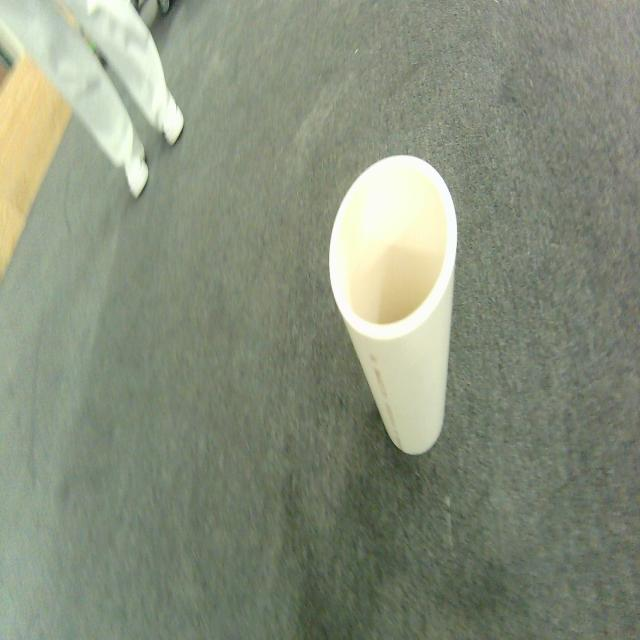coral: (329, 155, 457, 455)
